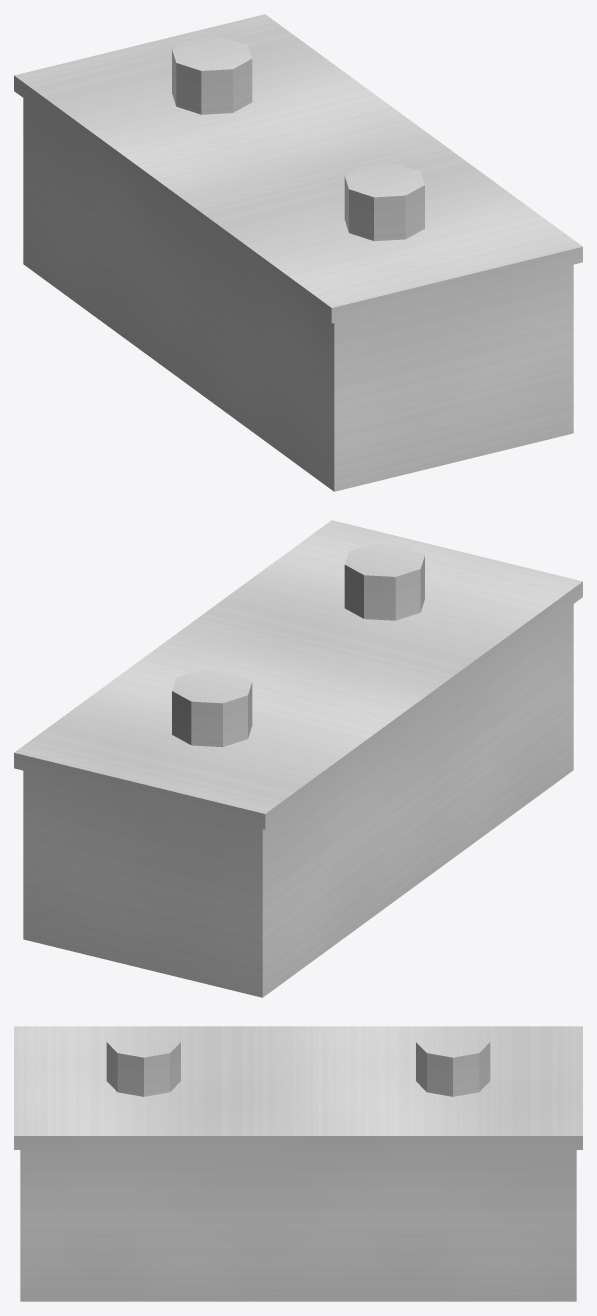
Rendered from battery.obj.
The picture shows the model from 3 angles, top to bottom: view 1: azimuth 30°, elevation 25°; view 2: azimuth 150°, elevation 25°; view 3: azimuth 270°, elevation 25°; orthographic projection. The views are drawn at different scales.
Visible parts, largest first — view 1: battery; view 2: battery; view 3: battery.
Part boxes in pixels (x1,y1,x2,y2): battery: (14, 14, 582, 491); battery: (14, 520, 582, 997); battery: (14, 1026, 582, 1301).
Bounding box in the file's own units: 0.84 × 0.74 × 1.84.
